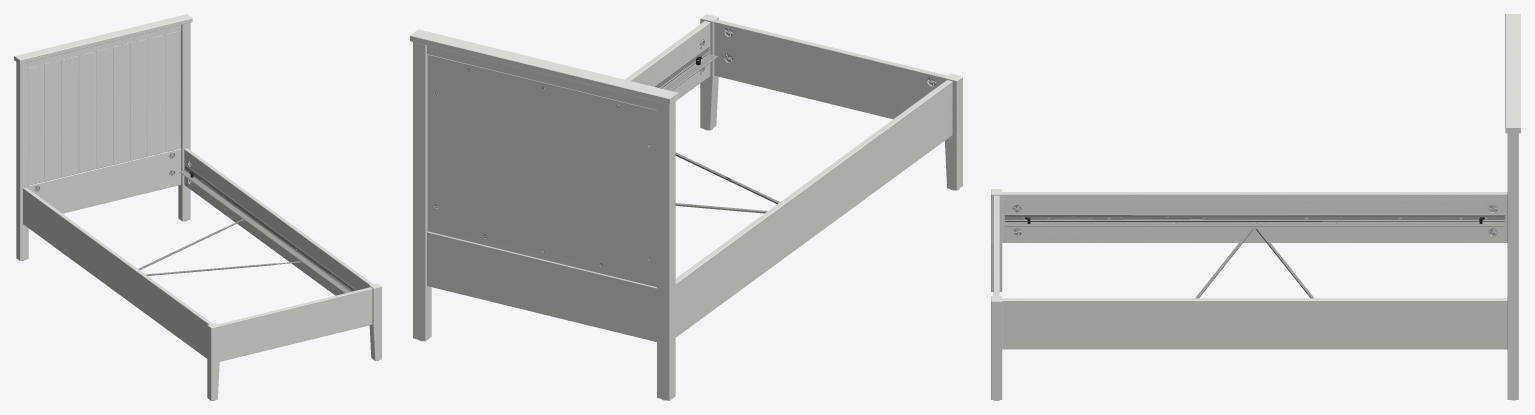
3 renders of one model, left to right at view 1: azimuth 30°, elevation 25°; view 2: azimuth 150°, elevation 25°; view 3: azimuth 270°, elevation 25°, orthographic. The views are drawn at different scales.
Parts seen in each view (by area): view 1: d5d7e7fd-c117-403a-b91c-c917860d5aa5; view 2: d5d7e7fd-c117-403a-b91c-c917860d5aa5; view 3: d5d7e7fd-c117-403a-b91c-c917860d5aa5.
Boxes of the visible parts, bbox=[...] form: d5d7e7fd-c117-403a-b91c-c917860d5aa5: bbox=[14, 14, 381, 400]; d5d7e7fd-c117-403a-b91c-c917860d5aa5: bbox=[410, 14, 962, 400]; d5d7e7fd-c117-403a-b91c-c917860d5aa5: bbox=[991, 14, 1520, 400].
Size of the model in its own units: 1.01 by 1.13 by 1.98.
1 material, 1 textured.
